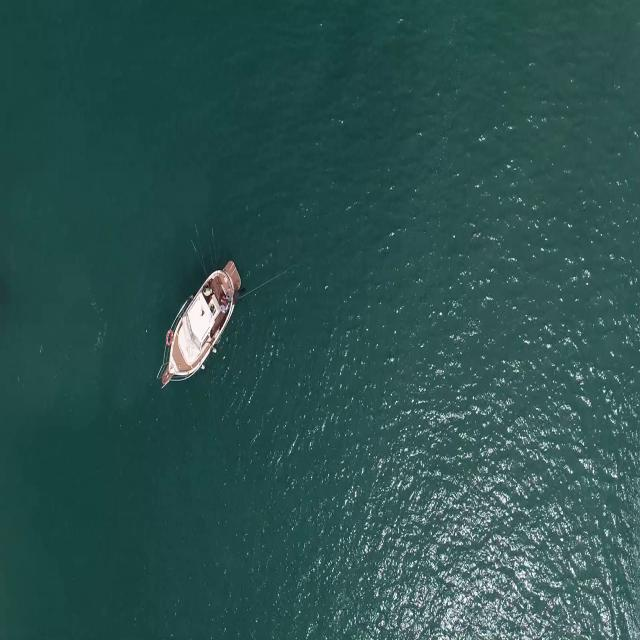boat: (156, 260, 242, 383)
life_buoy: (166, 324, 176, 347)
person: (218, 301, 230, 317), (201, 284, 216, 296)
